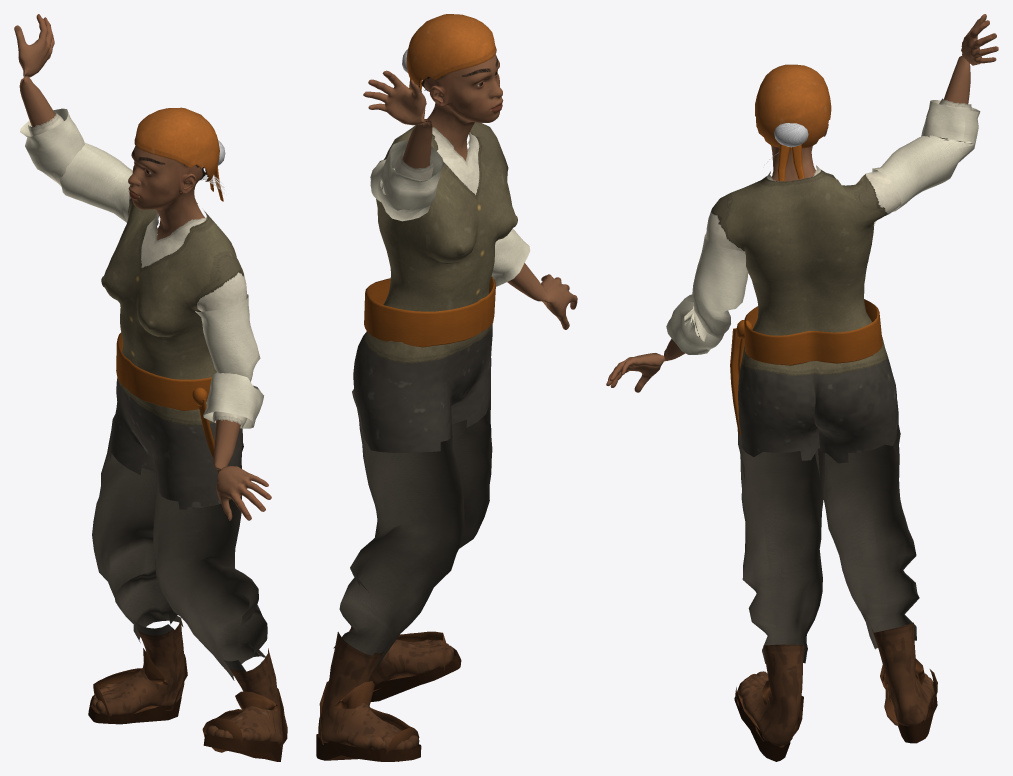
The model's file is SM_Art_Person_denise.gltf.
3 renders of one model, left to right at view 1: azimuth 30°, elevation 25°; view 2: azimuth 150°, elevation 25°; view 3: azimuth 270°, elevation 25°, orthographic. The views are drawn at different scales.
Parts seen in each view (by area): view 1: SM_Art_Person_denise; view 2: SM_Art_Person_denise; view 3: SM_Art_Person_denise.
Part boxes in pixels (<box>): SM_Art_Person_denise: <box>14,14,287,761</box>; SM_Art_Person_denise: <box>316,14,577,761</box>; SM_Art_Person_denise: <box>606,14,998,761</box>.
Size of the model in its own units: 0.4631 by 1.79 by 0.9395.
Materials: 17 (17 with a texture image).
